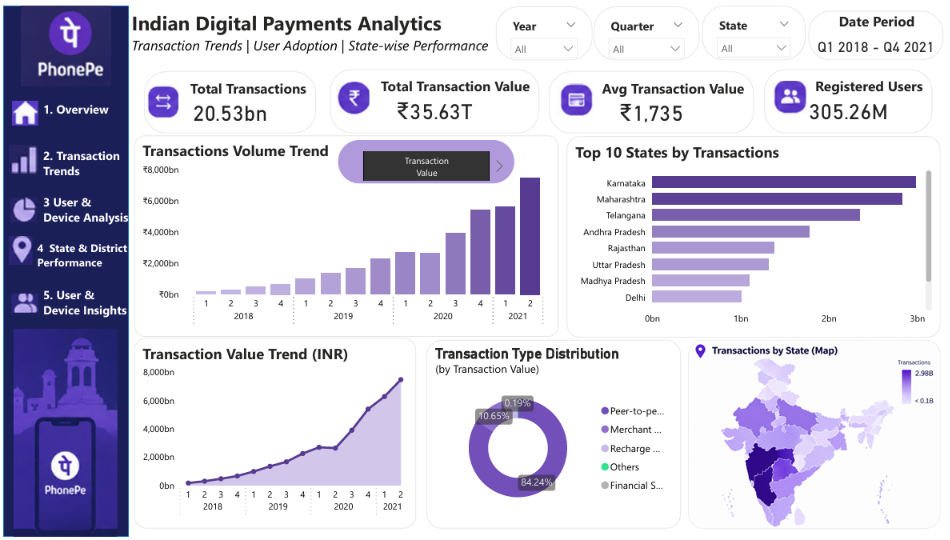

This screenshot's page, from the dashboard's own definition file:
{"tool":"powerbi","page":{"name":"Overview","canvas":[1280,720],"ordinal":0},"visuals":[{"type":"shape","box":[0,0,170,720],"z":0},{"type":"image","box":[0,0,170,108.6],"z":1000},{"type":"image","box":[0,438.6,170,281.4],"z":2000},{"type":"shape","box":[0,124.3,170,62.9],"z":3000},{"type":"shape","box":[0,250,170,62.9],"z":4000},{"type":"shape","box":[0,312.9,170,62.9],"z":5000},{"type":"shape","box":[0,375.7,170,62.9],"z":6000},{"type":"shape","box":[0,187.1,170,62.9],"z":7000},{"type":"textbox","box":[48.6,124.3,121.4,38.6],"z":8000},{"type":"textbox","box":[48.6,187.1,152.9,54.3],"z":9000},{"type":"textbox","box":[48.6,250.1,141.5,55.7],"z":10000},{"type":"textbox","box":[41.4,312.9,150,75.7],"z":11000},{"type":"textbox","box":[48.6,375.7,128.6,62.9],"z":12000},{"type":"image","box":[11,130.4,37,32.9],"z":13000},{"type":"image","box":[8.2,186.6,39.8,42.5],"z":14000},{"type":"image","box":[8.2,260.7,38.4,32.9],"z":15000},{"type":"image","box":[8.2,312.9,31.6,38.4],"z":16000},{"type":"image","box":[11,388.3,35.7,31.6],"z":17000},{"type":"textbox","box":[168.8,0,499.5,72.7],"z":18000},{"type":"slicer","fields":{"Values":["State_Txn and Users.Year"]},"box":[668.3,1.4,130.4,72.7],"z":19000},{"type":"slicer","fields":{"Values":["State_Txn and Users.Quarter"]},"box":[801.4,1.4,142.7,72.7],"z":20000},{"type":"slicer","fields":{"Values":["State_Txn and Users.State"]},"box":[948.2,0,140,74.1],"z":21000},{"type":"card","title":"Total Transactions","fields":{"Values":["Measures (2).Total Transactions"]},"box":[190.7,89.2,233.3,83.7],"z":22000},{"type":"card","title":"Total Transaction Value","fields":{"Values":["Measures (2).Total Transaction Value"]},"box":[443.2,86.4,284,86.4],"z":23000},{"type":"card","title":"Avg Transaction Value","fields":{"Values":["Measures (2).Average Transaction Value"]},"box":[739.6,89.2,278.6,83.7],"z":24000},{"type":"card","title":"Registered Users","fields":{"Values":["Measures (2).Registered Users - Latest Quarter"]},"box":[1031.9,86.4,227.8,86.4],"z":25000},{"type":"image","box":[190.7,107,52.1,46.7],"z":26000},{"type":"image","box":[452.8,101.5,43.9,46.7],"z":27000},{"type":"image","box":[752,101.5,49.4,52.1],"z":28000},{"type":"image","box":[1041.5,101.5,50.8,46.7],"z":29000},{"type":"clusteredColumnChart","title":"Transactions Volume Trend","fields":{"Y":["Measures (2).Total Transaction Value"],"Category":["State_Txn and Users.Year","State_Txn and Users.Quarter"]},"box":[178.4,175.6,575,273.1],"z":30000},{"type":"clusteredBarChart","title":"Top 10 States by Transactions ","fields":{"Category":["DimState.State"],"Y":["Sum(State_Txn and Users.Transactions)"]},"box":[764.3,177,506.3,273.1],"z":31000},{"type":"lineChart","title":"Transaction Value Trend (INR)","fields":{"Category":["State_TxnSplit.Year","State_TxnSplit.Quarter"],"Y":["Sum(State_TxnSplit.Amount (INR))"]},"box":[177,450.1,382.8,259.3],"z":32000},{"type":"donutChart","title":"Transaction Type Distribution               ","fields":{"Category":["State_TxnSplit.Transaction Type"],"Y":["Sum(State_TxnSplit.Amount (INR))"]},"box":[573.6,452.8,345.8,256.6],"z":33000},{"type":"slicer","fields":{"Values":["Transaction Metric.Transaction Metric"]},"box":[452.8,181.1,241.5,60.4],"z":34000},{"type":"image","box":[929,452.8,341.7,256.6],"z":35000},{"type":"card","title":"Date Period","fields":{"Values":["Measures (2).Date Period"]},"box":[1092.3,6.9,182.5,67.2],"z":36000}]}

Visuals, with their boxes on the page's 1280x720 design canvas (x1, y1, x2, y2). These are canvas units, not pixel positions in the 950x540 screenshot, which may show the page scaled, cropped or inside an application window:
shape: [x1=0, y1=0, x2=170, y2=720]
image: [x1=0, y1=0, x2=170, y2=109]
image: [x1=0, y1=439, x2=170, y2=720]
shape: [x1=0, y1=124, x2=170, y2=187]
shape: [x1=0, y1=250, x2=170, y2=313]
shape: [x1=0, y1=313, x2=170, y2=376]
shape: [x1=0, y1=376, x2=170, y2=439]
shape: [x1=0, y1=187, x2=170, y2=250]
textbox: [x1=49, y1=124, x2=170, y2=163]
textbox: [x1=49, y1=187, x2=202, y2=241]
textbox: [x1=49, y1=250, x2=190, y2=306]
textbox: [x1=41, y1=313, x2=191, y2=389]
textbox: [x1=49, y1=376, x2=177, y2=439]
image: [x1=11, y1=130, x2=48, y2=163]
image: [x1=8, y1=187, x2=48, y2=229]
image: [x1=8, y1=261, x2=47, y2=294]
image: [x1=8, y1=313, x2=40, y2=351]
image: [x1=11, y1=388, x2=47, y2=420]
textbox: [x1=169, y1=0, x2=668, y2=73]
slicer - State_Txn and Users.Year: [x1=668, y1=1, x2=799, y2=74]
slicer - State_Txn and Users.Quarter: [x1=801, y1=1, x2=944, y2=74]
slicer - State_Txn and Users.State: [x1=948, y1=0, x2=1088, y2=74]
"Total Transactions" card: [x1=191, y1=89, x2=424, y2=173]
"Total Transaction Value" card: [x1=443, y1=86, x2=727, y2=173]
"Avg Transaction Value" card: [x1=740, y1=89, x2=1018, y2=173]
"Registered Users" card: [x1=1032, y1=86, x2=1260, y2=173]
image: [x1=191, y1=107, x2=243, y2=154]
image: [x1=453, y1=102, x2=497, y2=148]
image: [x1=752, y1=102, x2=801, y2=154]
image: [x1=1042, y1=102, x2=1092, y2=148]
"Transactions Volume Trend" clusteredColumnChart: [x1=178, y1=176, x2=753, y2=449]
"Top 10 States by Transactions " clusteredBarChart: [x1=764, y1=177, x2=1271, y2=450]
"Transaction Value Trend (INR)" lineChart: [x1=177, y1=450, x2=560, y2=709]
"Transaction Type Distribution               " donutChart: [x1=574, y1=453, x2=919, y2=709]
slicer - Transaction Metric.Transaction Metric: [x1=453, y1=181, x2=694, y2=242]
image: [x1=929, y1=453, x2=1271, y2=709]
"Date Period" card: [x1=1092, y1=7, x2=1275, y2=74]
